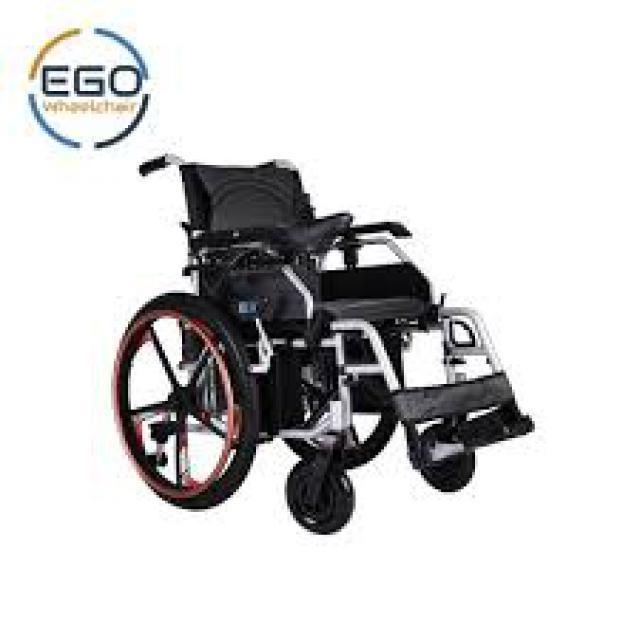wheelchairs: (110, 152, 534, 538)
